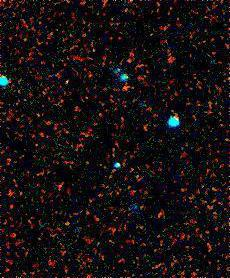star: (49, 72, 79, 102)
